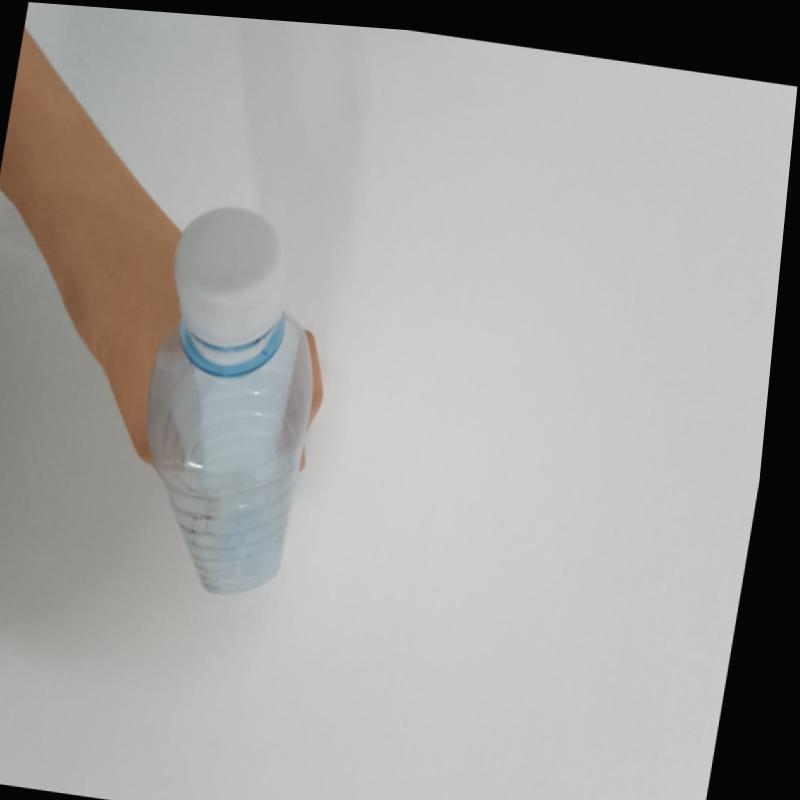botella: (111, 186, 361, 612)
